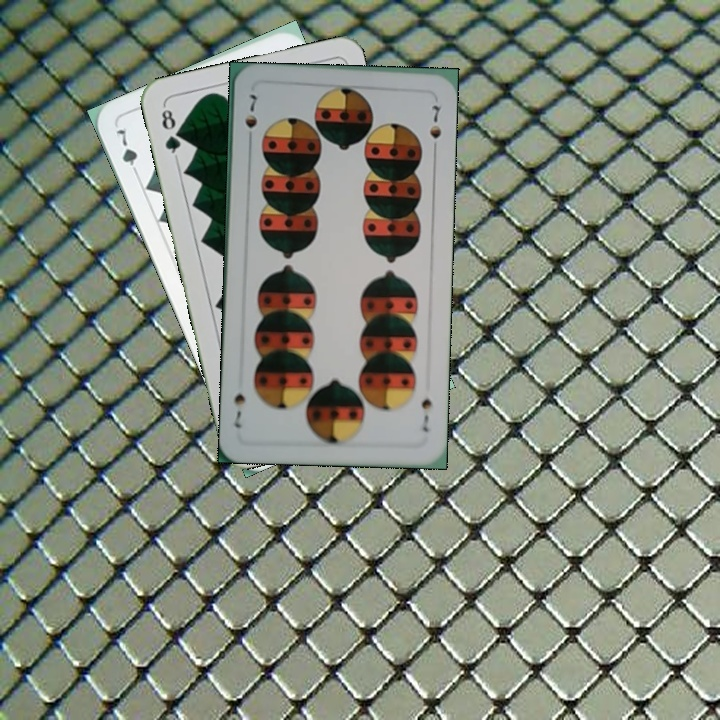G7: (111, 125, 142, 180)
G8: (157, 102, 184, 160)
S7: (241, 91, 260, 147), (417, 395, 434, 435)
